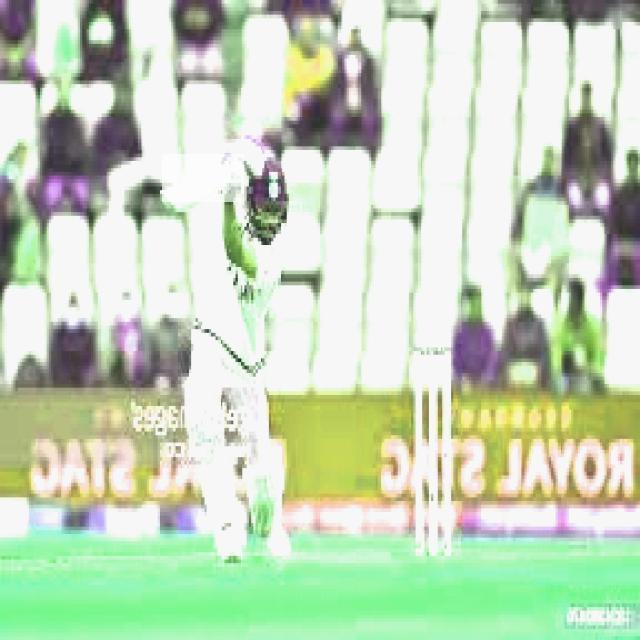bat: (149, 145, 240, 229)
toe: (157, 190, 185, 214)
